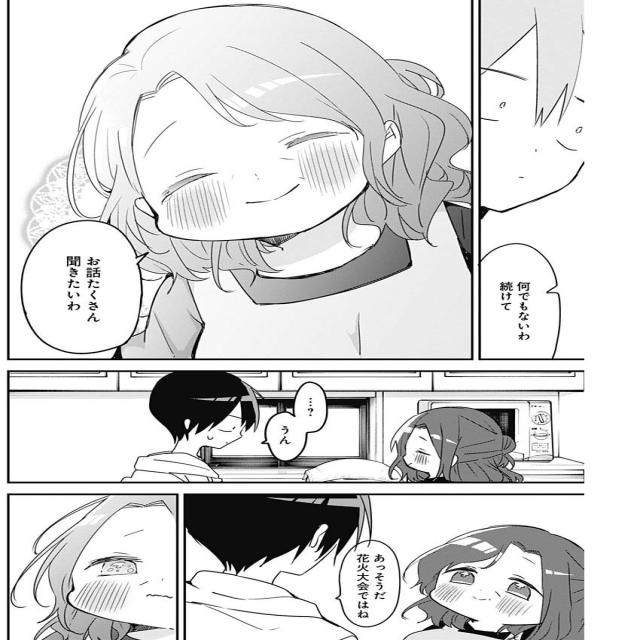Bubble: (22, 220, 148, 354), (476, 241, 563, 361), (335, 539, 401, 629), (262, 412, 308, 461), (292, 379, 328, 433)
